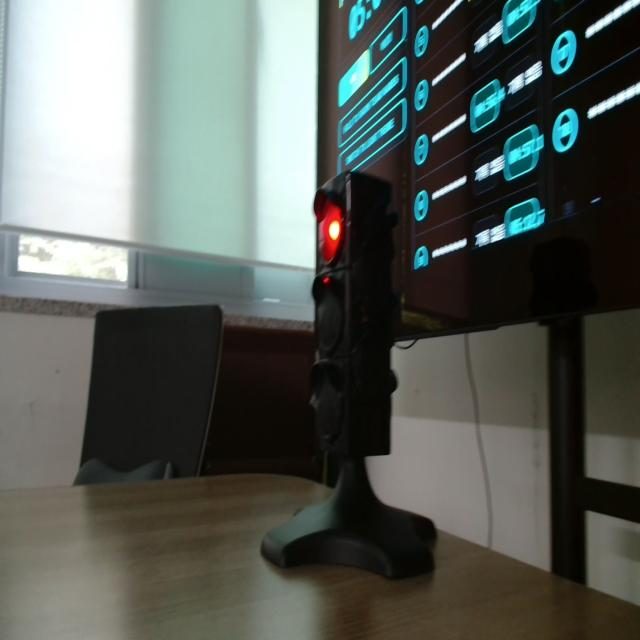red_light: (319, 200, 342, 263), (328, 220, 341, 241), (323, 277, 330, 285)
